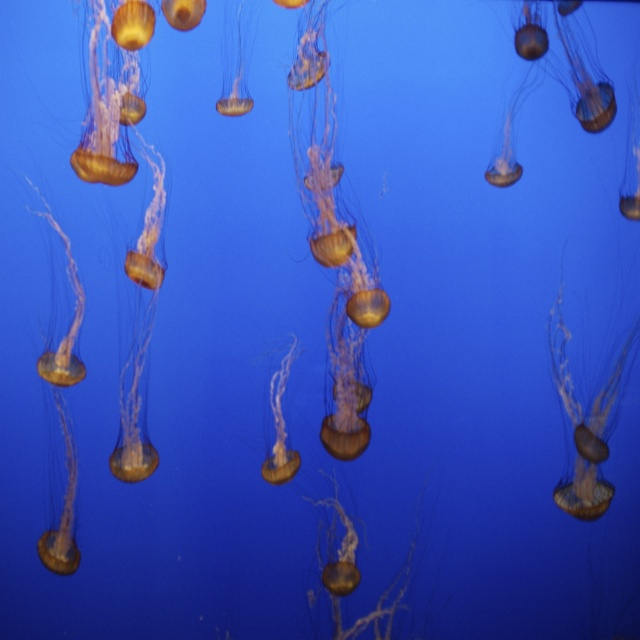Jellyfish: (9, 0, 640, 639)
